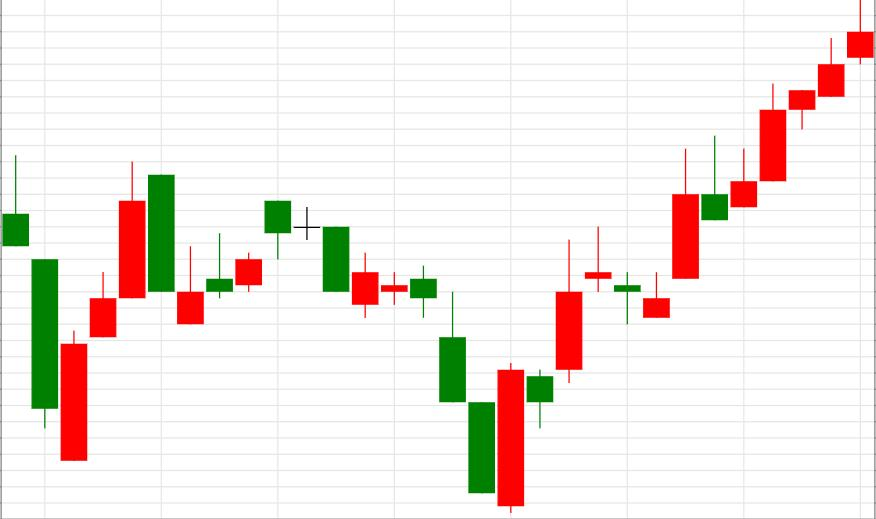bullish_engulfing_rise: (265, 200, 525, 513)
